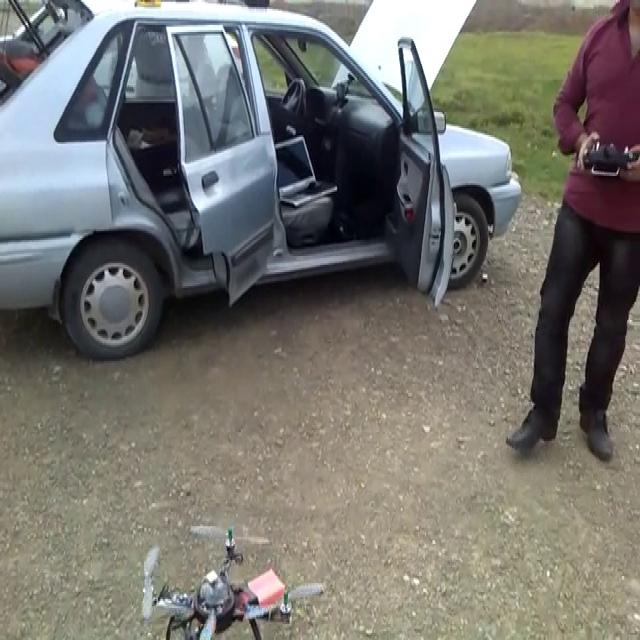drone: (140, 526, 326, 638)
